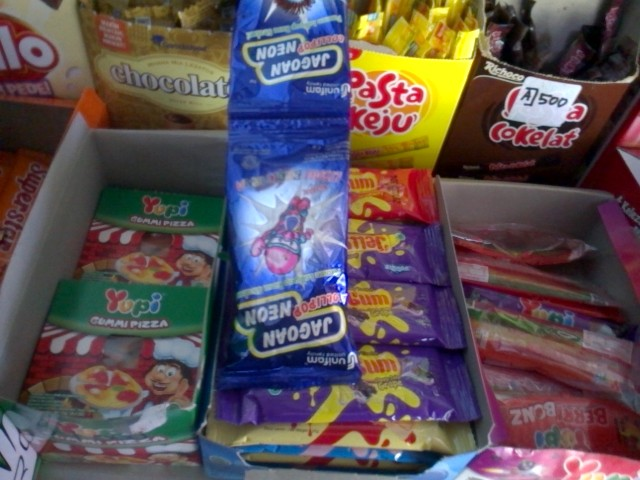jagoan neon: (216, 124, 361, 390), (228, 1, 349, 128)
